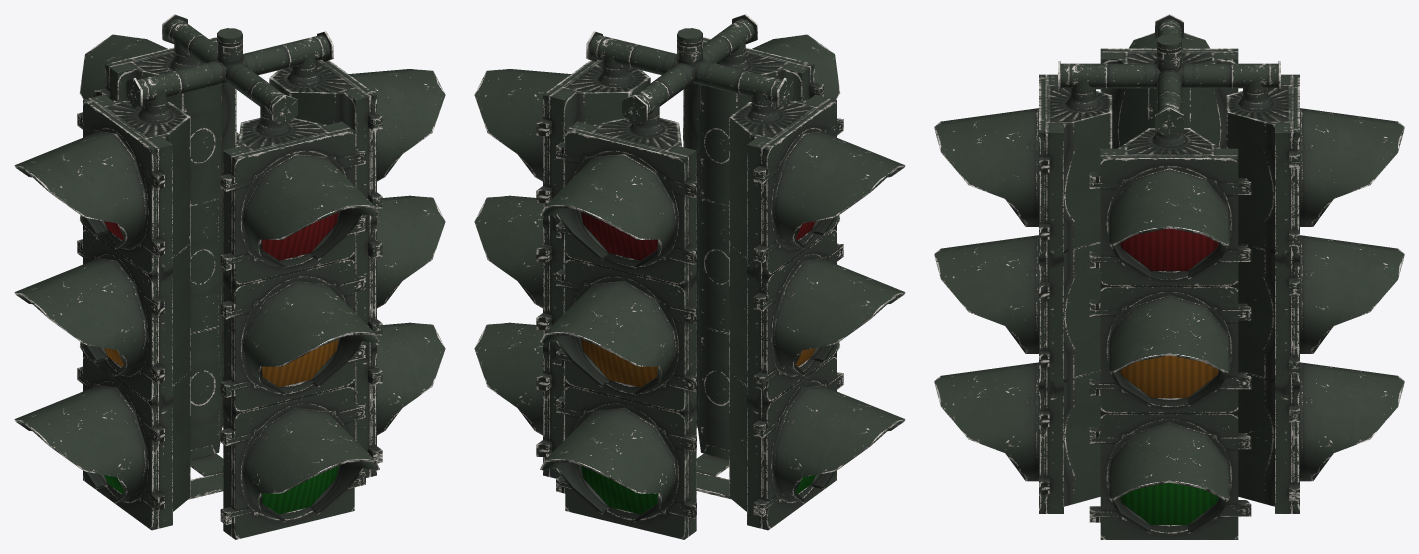
File: TrafficLight.FBX
3 views of the same model, side by side, from view 1: azimuth 30°, elevation 25°; view 2: azimuth 150°, elevation 25°; view 3: azimuth 270°, elevation 25° (orthographic).
Visible parts, largest first — view 1: TrafficLight; view 2: TrafficLight; view 3: TrafficLight.
Boxes of the visible parts, x1,y1,x2,y2 form: TrafficLight: (14,14,445,539); TrafficLight: (474,14,905,539); TrafficLight: (934,14,1404,539).
Size of what is drawn, in the model's own units: 97.62 by 103 by 97.62.
